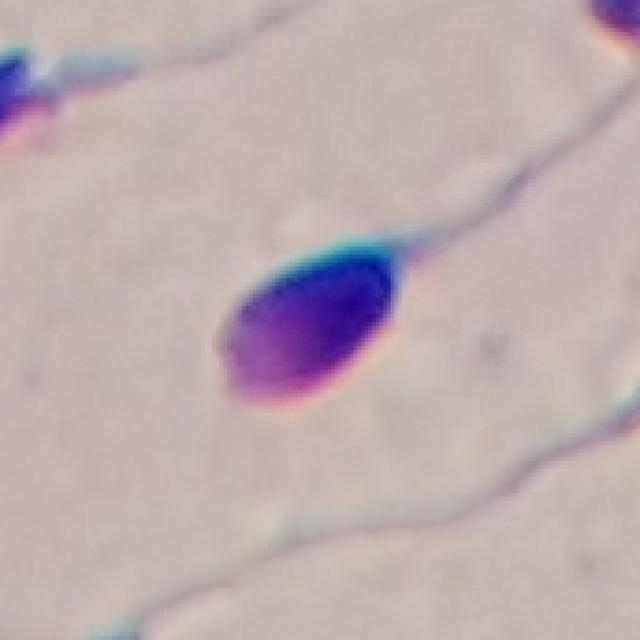normal sperm: (223, 201, 485, 398)
